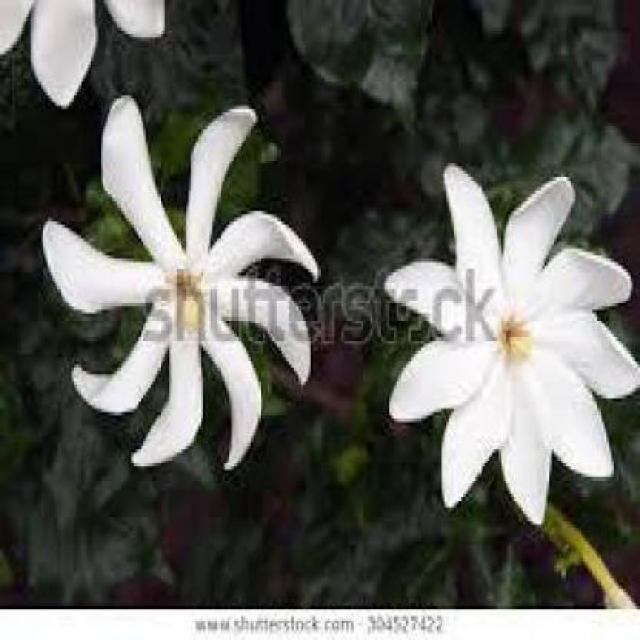flower: (40, 97, 318, 475), (378, 160, 638, 528)
